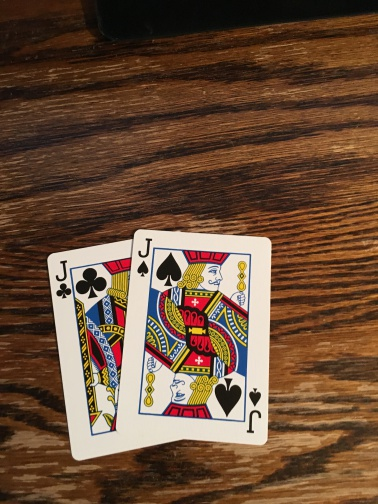jack: (119, 228, 275, 445), (42, 239, 132, 459)
